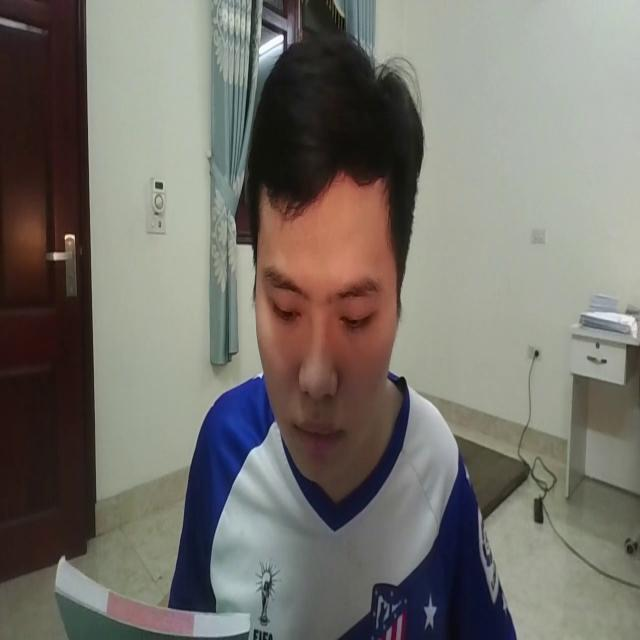book: (38, 522, 262, 640)
student: (159, 0, 522, 640)
